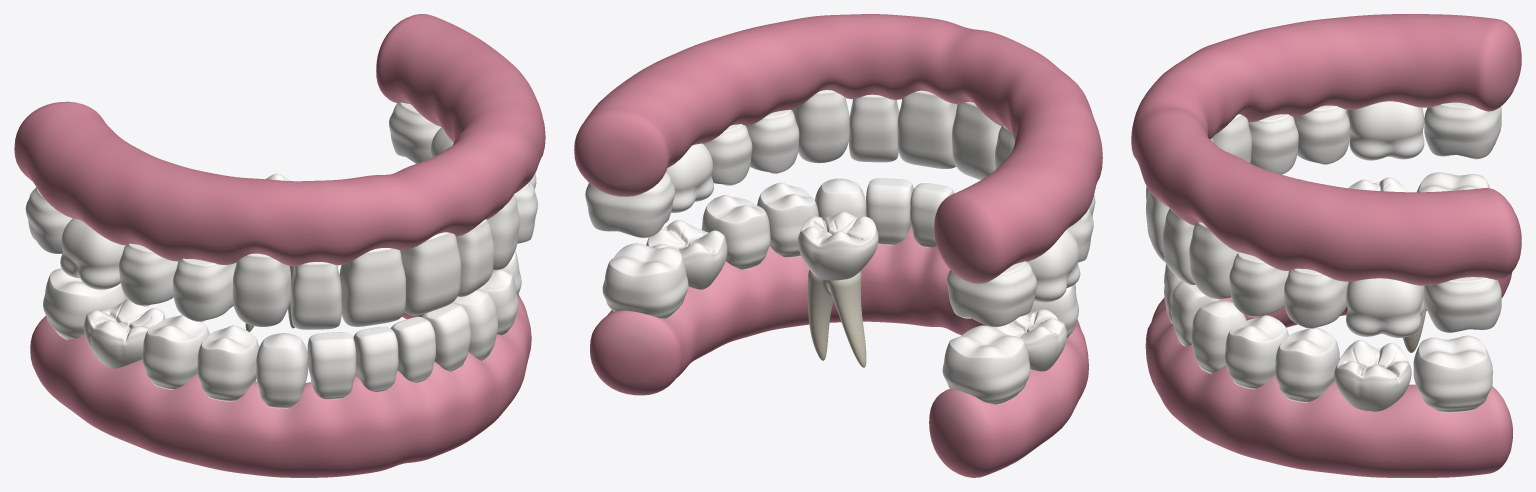
Rendered from dava-dentition.glb.
The picture shows the model from 3 angles, left to right: view 1: azimuth 30°, elevation 25°; view 2: azimuth 150°, elevation 25°; view 3: azimuth 270°, elevation 25°; orthographic projection.
Parts seen in each view (by area): view 1: gum_upper, gum_lower, tooth_U_I1_L, tooth_U_I1_R, tooth_L_PM1_L, tooth_U_C_L, tooth_L_PM2_L, tooth_L_M1_L, tooth_L_C_L, tooth_U_I2_L, tooth_U_PM1_L, tooth_L_M2_L (+13 smaller); view 2: gum_upper, gum_lower, tooth_L_M2_L, tooth_L_M2_R, hero_molar_crown, tooth_U_M2_L, tooth_U_I1_R, tooth_U_M2_R, hero_molar_roots, tooth_L_PM2_R, tooth_U_C_R, tooth_U_I2_R (+14 smaller); view 3: gum_upper, gum_lower, tooth_L_M2_R, tooth_L_M1_R, tooth_U_M1_R, tooth_U_M1_L, tooth_L_PM2_R, tooth_U_M2_R, tooth_U_M2_L, tooth_L_PM1_R, tooth_U_PM2_R, tooth_U_PM1_R (+11 smaller).
Boxes of the visible parts, x1,y1,x2,y2 form: gum_upper: (14,14,545,266); gum_lower: (30,295,531,477); tooth_U_I1_L: (339,248,405,326); tooth_U_I1_R: (400,232,461,315); tooth_L_PM1_L: (197,325,259,401); tooth_U_C_L: (232,253,290,326); tooth_L_PM2_L: (142,314,209,389); tooth_L_M1_L: (83,298,165,368); tooth_L_C_L: (256,333,307,408); tooth_U_I2_L: (290,262,341,329); tooth_U_PM1_L: (173,258,236,322); tooth_L_M2_L: (43,268,126,339); gum_upper: (574,14,1102,283); gum_lower: (590,226,1088,477); tooth_L_M2_L: (942,325,1030,404); tooth_L_M2_R: (602,243,688,318); hero_molar_crown: (798,211,878,280); tooth_U_M2_L: (947,261,1036,327); tooth_U_I1_R: (897,90,957,168); tooth_U_M2_R: (585,172,675,237); hero_molar_roots: (807,270,866,367); tooth_L_PM2_R: (701,195,770,269); tooth_U_C_R: (792,90,849,163); tooth_U_I2_R: (849,94,899,162); gum_upper: (1131,14,1521,285); gum_lower: (1145,272,1512,477); tooth_L_M2_R: (1413,335,1492,412); tooth_L_M1_R: (1334,340,1411,411); tooth_U_M1_R: (1346,278,1424,337); tooth_U_M1_L: (1346,101,1424,160); tooth_L_PM2_R: (1275,327,1339,402); tooth_U_M2_R: (1424,277,1501,332); tooth_U_M2_L: (1424,102,1501,159); tooth_L_PM1_R: (1224,315,1288,389); tooth_U_PM2_R: (1284,268,1348,328); tooth_U_PM1_R: (1229,252,1288,317).
Bounding box in the file's own units: 3.93 × 2.44 × 2.96.
